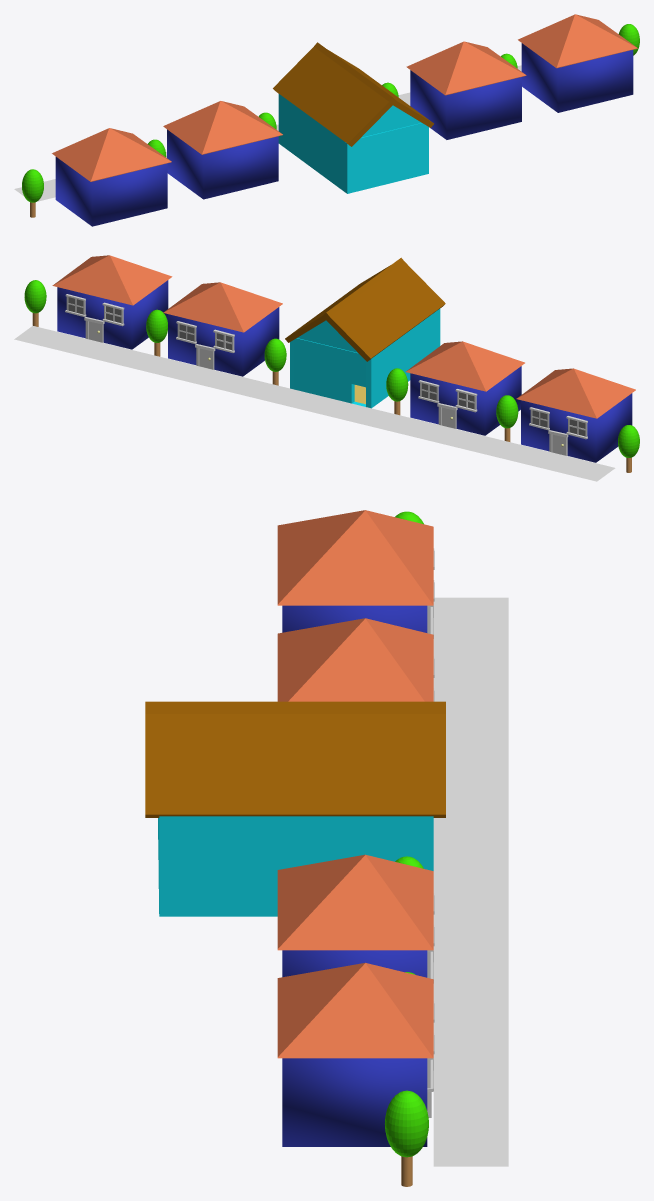
The model's file is FunTown.glb.
The picture shows the model from 3 angles, top to bottom: view 1: azimuth 30°, elevation 25°; view 2: azimuth 150°, elevation 25°; view 3: azimuth 270°, elevation 25°; orthographic projection. The views are drawn at different scales.
Visible parts, largest first — view 1: Plane.001, Sphere.002, Sphere.001, Sphere.003, Sphere, Cylinder.005, Plane.002, Cylinder.002; view 2: Plane.001, Plane.002, Sphere.002, Sphere, Sphere.001, Sphere.003, Cylinder, Cylinder.001, Cylinder.002, Cylinder.004, Cylinder.003, Cylinder.005; view 3: Plane.001, Plane.002, Sphere.001, Sphere.002, Sphere, Sphere.003, Cylinder.002.
Boxes of the visible parts, x1,y1,x2,y2 form: Plane.001: [273, 42, 433, 193]; Sphere.002: [52, 128, 171, 226]; Sphere.001: [518, 14, 637, 112]; Sphere.003: [163, 101, 282, 199]; Sphere: [406, 41, 526, 139]; Cylinder.005: [22, 169, 43, 217]; Plane.002: [14, 65, 521, 201]; Cylinder.002: [619, 24, 639, 55]; Plane.001: [285, 257, 445, 408]; Plane.002: [14, 326, 615, 481]; Sphere.002: [516, 368, 635, 462]; Sphere: [163, 282, 282, 376]; Sphere.001: [52, 255, 172, 349]; Sphere.003: [405, 341, 524, 435]; Cylinder: [264, 338, 286, 385]; Cylinder.001: [386, 368, 408, 415]; Cylinder.002: [24, 280, 46, 326]; Cylinder.004: [496, 395, 518, 441]; Cylinder.003: [146, 309, 167, 356]; Cylinder.005: [618, 425, 639, 472]; Plane.001: [145, 701, 445, 916]; Plane.002: [433, 597, 508, 1166]; Sphere.001: [277, 962, 434, 1146]; Sphere.002: [277, 510, 434, 638]; Sphere: [277, 854, 434, 983]; Sphere.003: [277, 618, 434, 701]; Cylinder.002: [385, 1090, 428, 1186].
Size of what is drawn, in the model's own units: 222 by 32.9 by 57.04.
